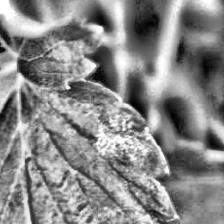Powdery Mildew Leaf: (0, 73, 180, 224), (0, 0, 106, 92)
